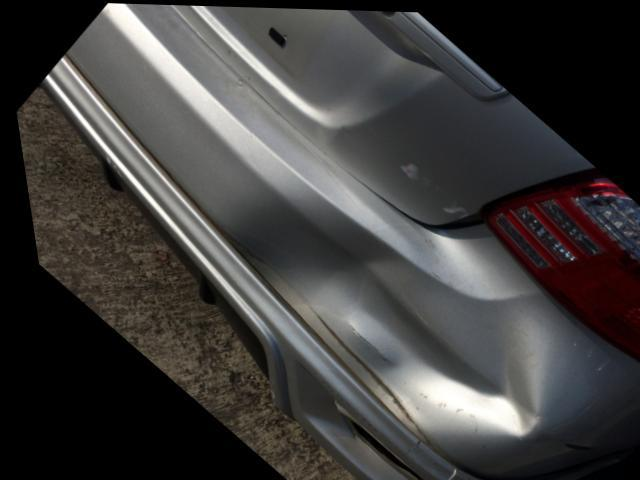dent: (215, 193, 529, 437)
